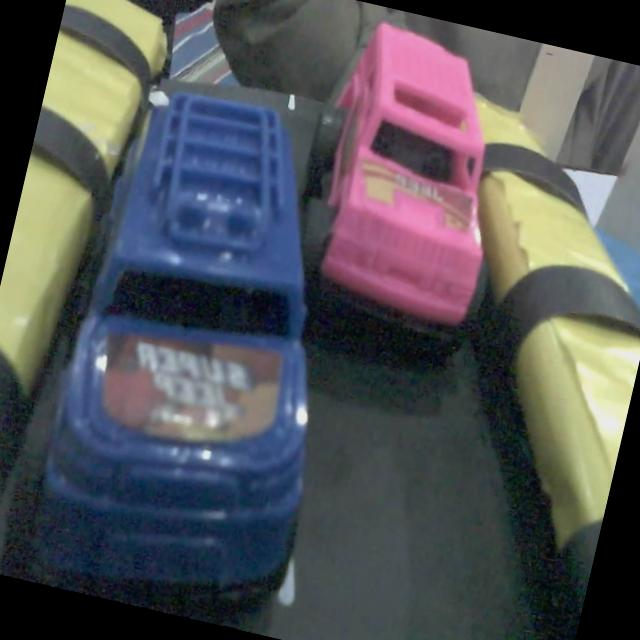TwoCar: (0, 60, 373, 625), (263, 0, 542, 358)
